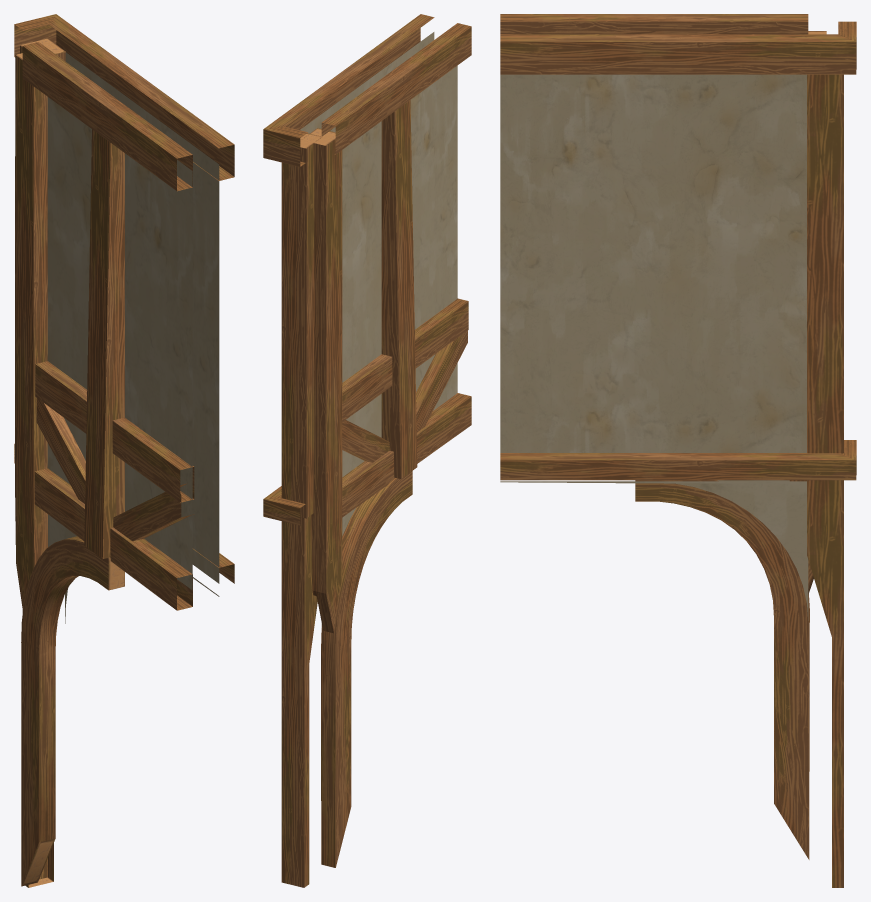
Rendered from overhang_side_plaster_long_l.gltf.
3 views of the same model, side by side, from view 1: azimuth 30°, elevation 25°; view 2: azimuth 150°, elevation 25°; view 3: azimuth 270°, elevation 25° (orthographic). The views are drawn at different scales.
Parts seen in each view (by area): view 1: Overhang_Side_Plaster_Long_L; view 2: Overhang_Side_Plaster_Long_L; view 3: Overhang_Side_Plaster_Long_L.
Part boxes in pixels (box(x1,y1,x2,y2)): Overhang_Side_Plaster_Long_L: box(14, 14, 234, 887); Overhang_Side_Plaster_Long_L: box(263, 14, 471, 887); Overhang_Side_Plaster_Long_L: box(500, 14, 856, 887).
Size of the model in its own units: 0.4793 by 6.12 by 2.31.
2 materials, 2 textured.
